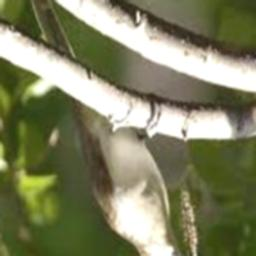Cuckoo: (28, 0, 192, 256)
